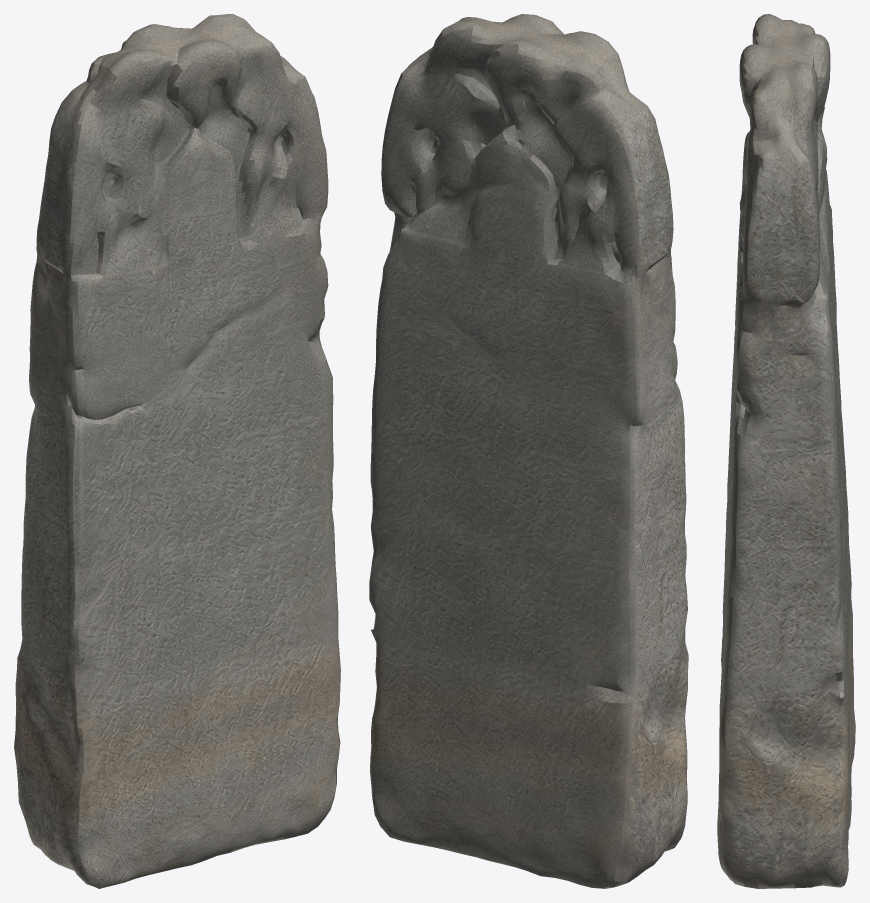
Rendered from bilgexan.glb.
The picture shows the model from 3 angles, left to right: view 1: azimuth 30°, elevation 25°; view 2: azimuth 150°, elevation 25°; view 3: azimuth 270°, elevation 25°; orthographic projection. The views are drawn at different scales.
Visible parts, largest first — view 1: Mesh0; view 2: Mesh0; view 3: Mesh0.
Boxes of the visible parts, x1,y1,x2,y2 form: Mesh0: (14, 14, 340, 888); Mesh0: (369, 14, 688, 888); Mesh0: (717, 14, 855, 888).
Size of the model in its own units: 0.6608 by 1.9 by 0.3009.
1 material, 1 textured.
